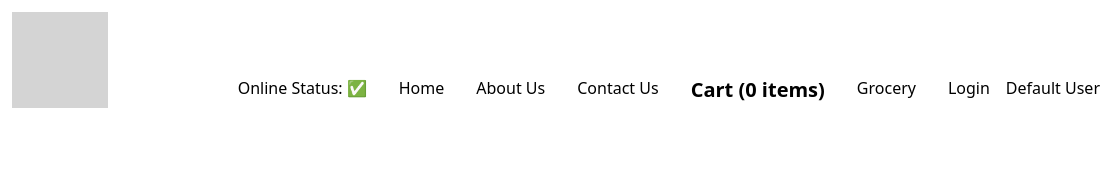
Scenario: Header page tests › Should change Login button to  Logout on click
Click the button "Login". click: [969, 88]
box: x1=932 y1=76 x2=1006 y2=100
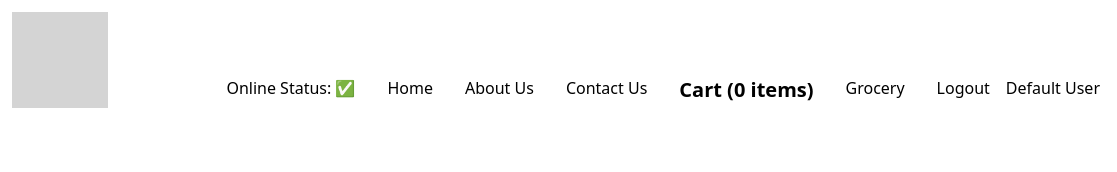
expect the button "Logout" is shown: met, box x1=921 y1=76 x2=1006 y2=100
